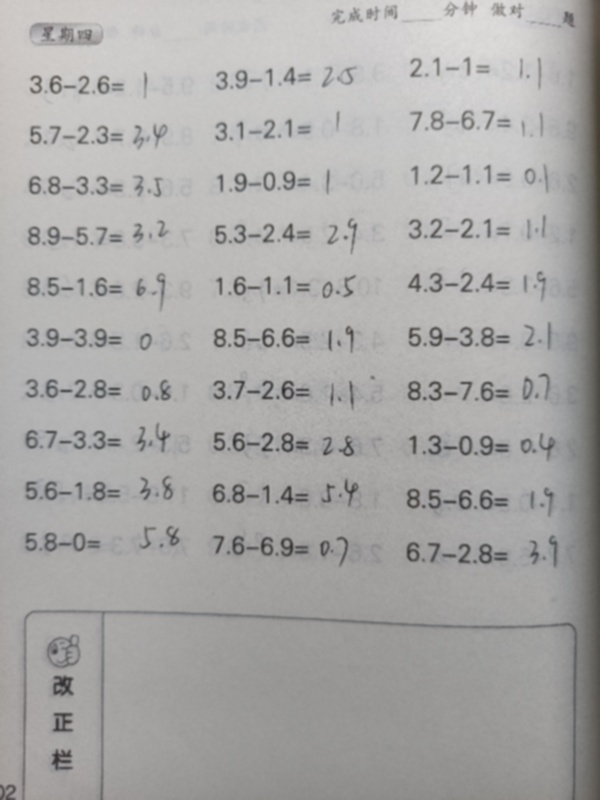equation: (1, 602, 175, 800), (204, 528, 384, 574), (203, 468, 383, 512), (400, 422, 580, 465), (204, 424, 384, 466), (398, 366, 578, 408), (397, 481, 577, 522), (21, 116, 201, 157), (400, 102, 580, 142), (207, 268, 387, 306), (19, 215, 199, 252), (21, 168, 201, 205), (397, 534, 577, 570), (204, 371, 384, 407), (400, 319, 580, 355), (399, 210, 579, 246), (207, 60, 387, 96), (206, 320, 386, 355), (400, 265, 580, 300), (206, 215, 386, 250), (208, 164, 388, 199), (402, 157, 582, 192), (17, 525, 197, 559), (17, 474, 197, 508), (16, 422, 196, 456), (18, 371, 198, 405), (19, 320, 199, 354), (19, 270, 199, 304), (206, 113, 386, 147), (22, 68, 202, 102), (402, 51, 582, 85)
